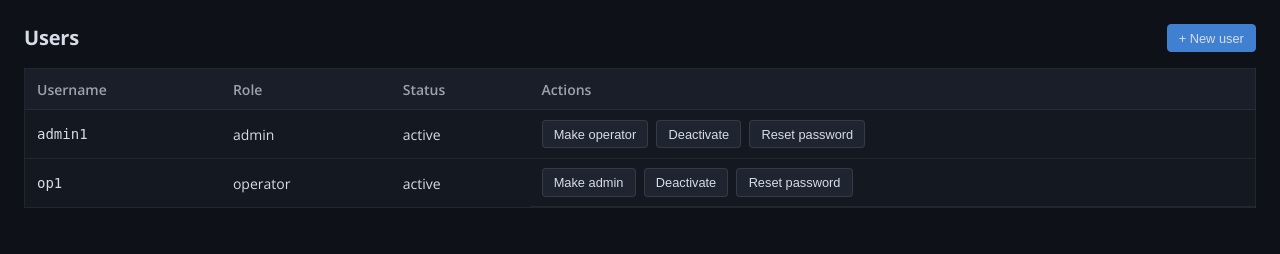
Test: Users — mutations › surfaces a mutation error (e.g. last-admin 409) without crashing
# Deactivate the admin row → server 409 surfaces as an alert.
Click the button "Deactivate" in the row of "admin1". click: point(699, 134)
box: [656,120,741,148]
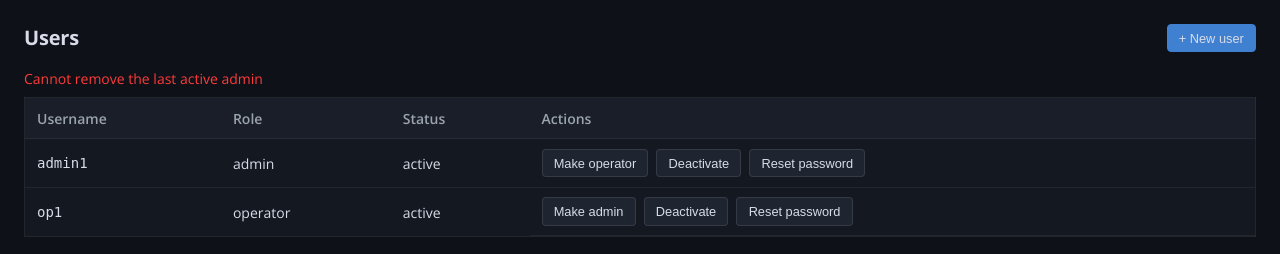
Check: the text "Cannot remove the last active admin" is shown, box [24,69,263,88]
